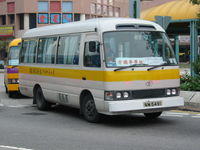bus: (22, 28, 181, 105)
